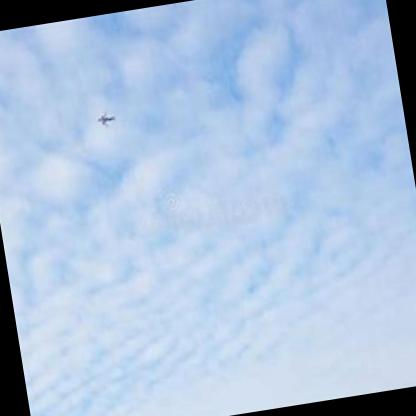plane: (90, 103, 120, 134)
